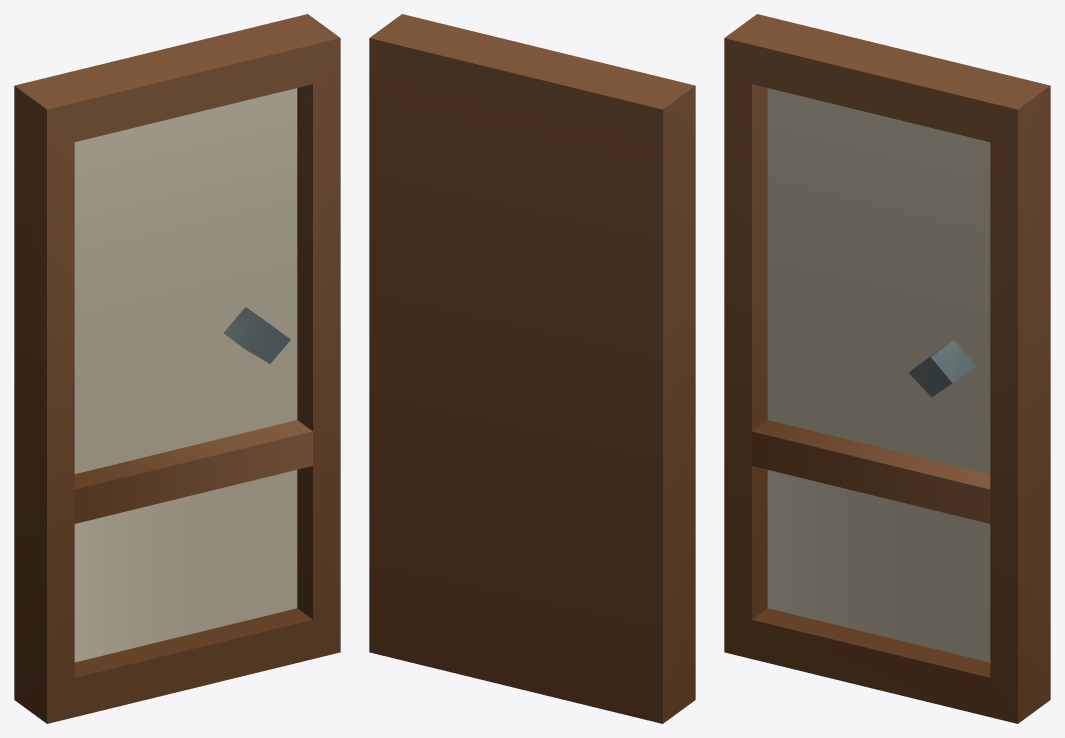
The model's file is House_Door_1m.fbx.
3 views of the same model, side by side, from view 1: azimuth 30°, elevation 25°; view 2: azimuth 150°, elevation 25°; view 3: azimuth 330°, elevation 25° (orthographic).
Visible parts, largest first — view 1: House_Door_1m; view 2: House_Door_1m; view 3: House_Door_1m.
Boxes of the visible parts, box(x1,y1,x2,y2) form: House_Door_1m: box(14, 14, 340, 723); House_Door_1m: box(369, 14, 695, 723); House_Door_1m: box(724, 14, 1050, 723).
Size of the model in its own units: 1 by 2 by 0.2401.
Materials: 1 (1 with a texture image).
